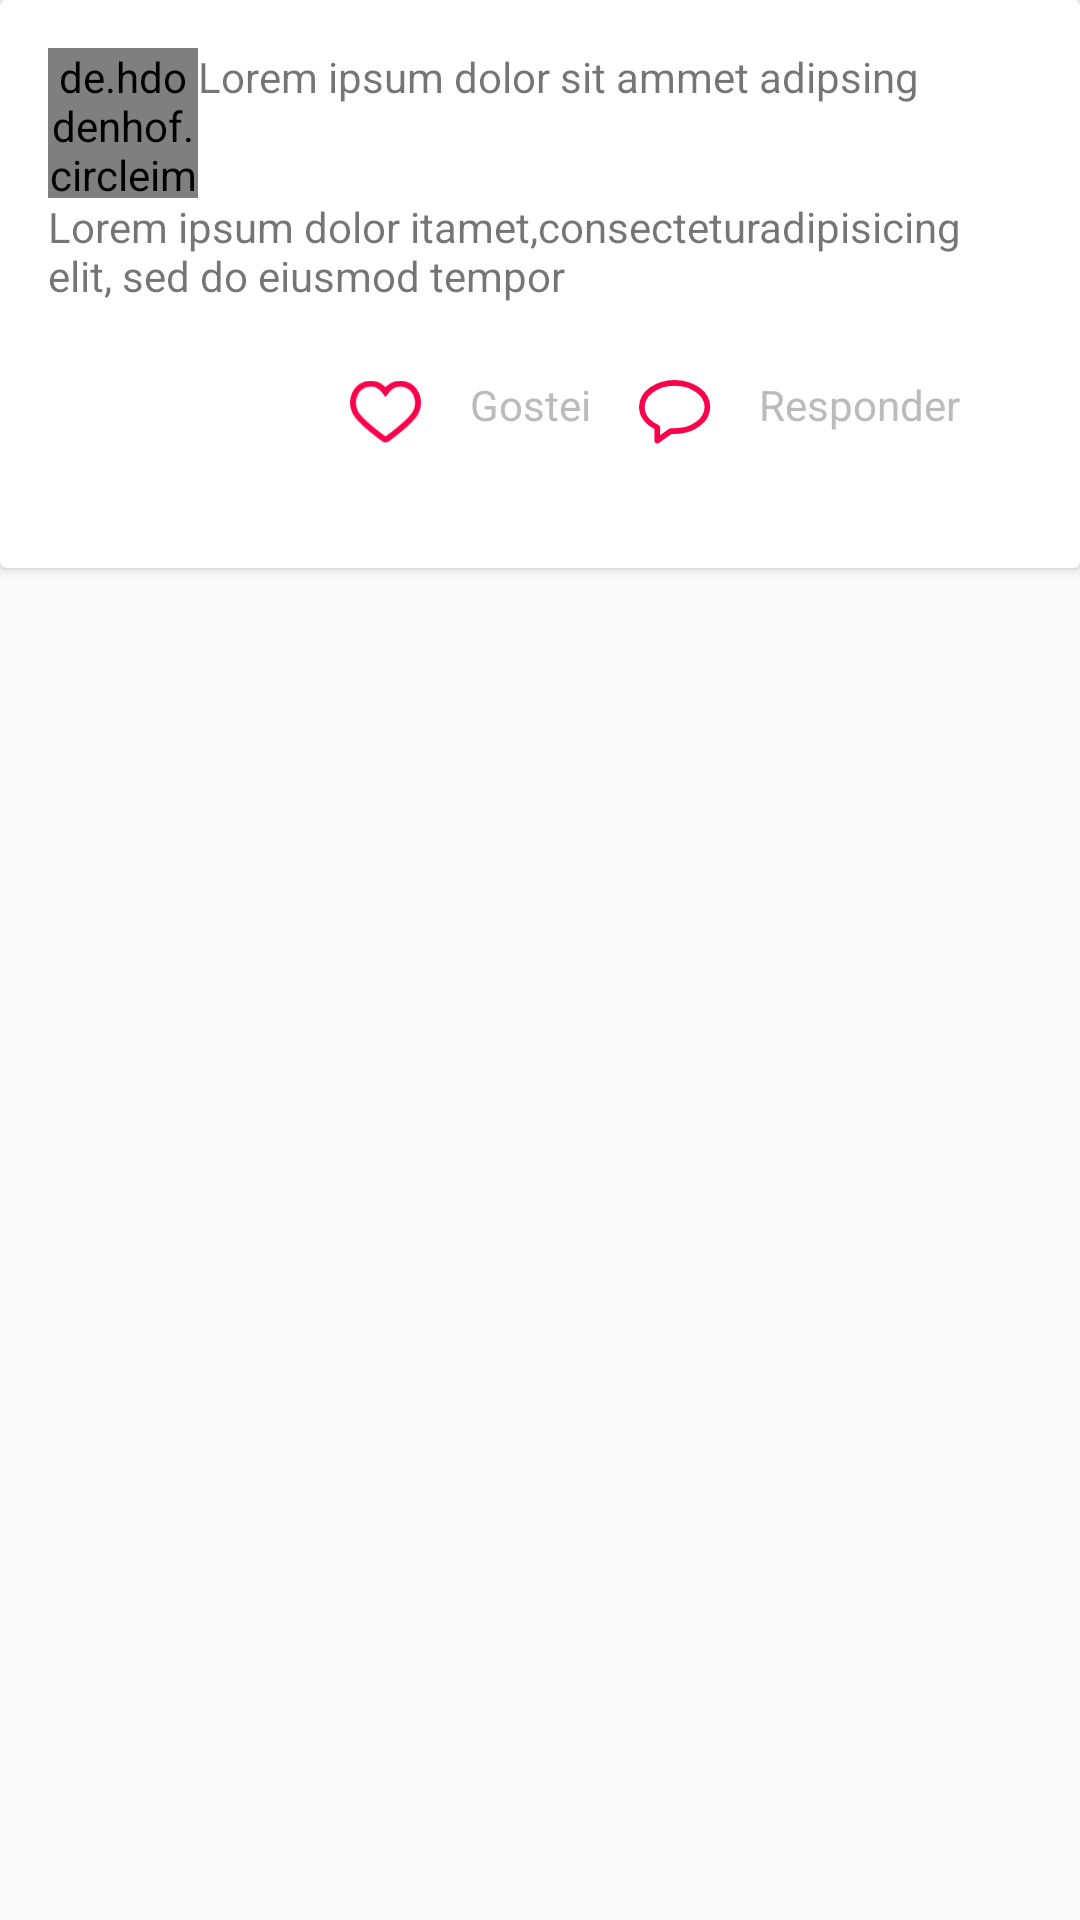

Point at icon controls on the screen. Image size 1080 × 1920, points as [x,y].
comment: [675,412]
like: [385,412]
